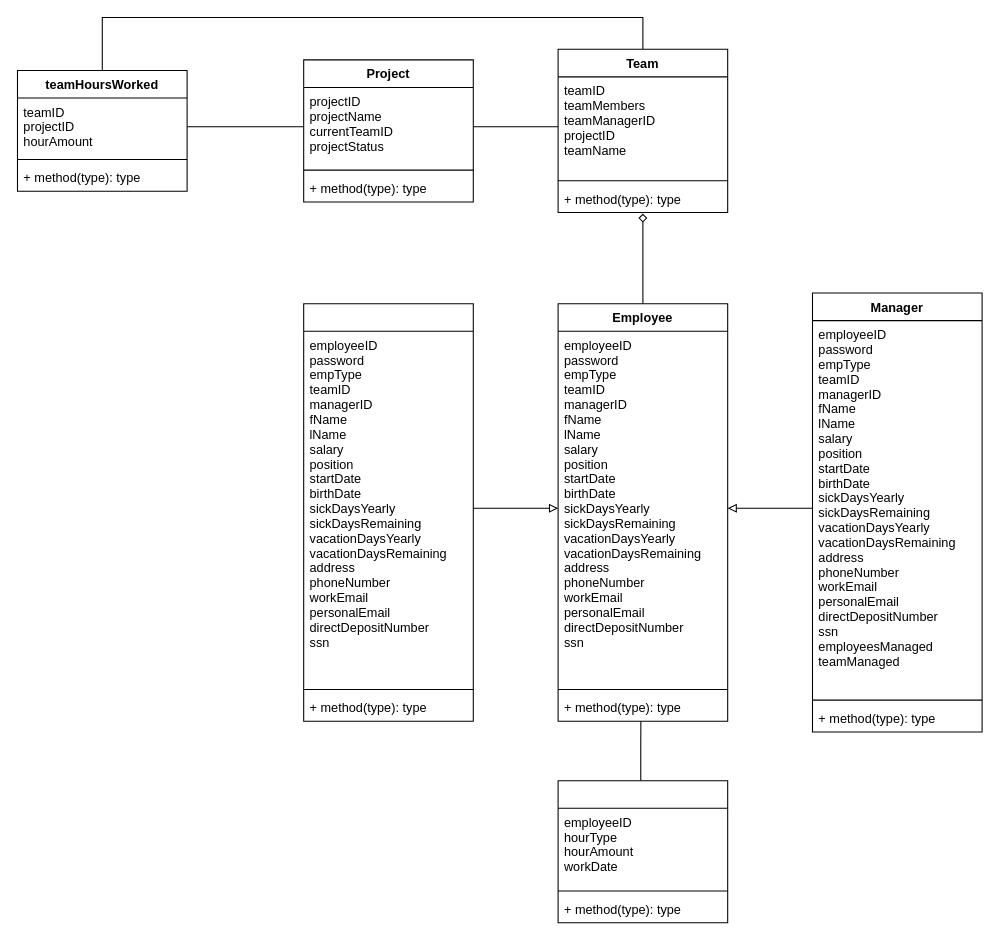
This 1000x940 diagram has some shape labels left out. The shapes that lost their labels are listed below. From the top down, each one's box as (x1, y1, x2, y2) in pixels, then its label:
(303, 303, 473, 721): Sys Admin
(557, 780, 728, 923): hoursWorked
